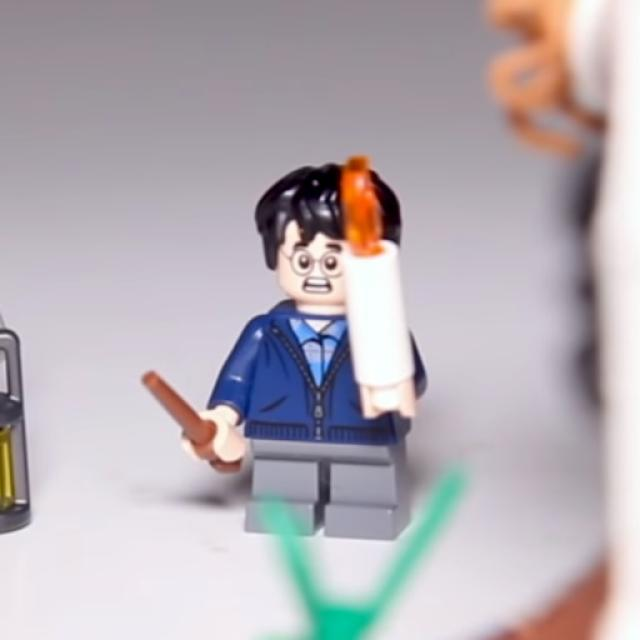Lego-Minifigures: (123, 121, 477, 560)
